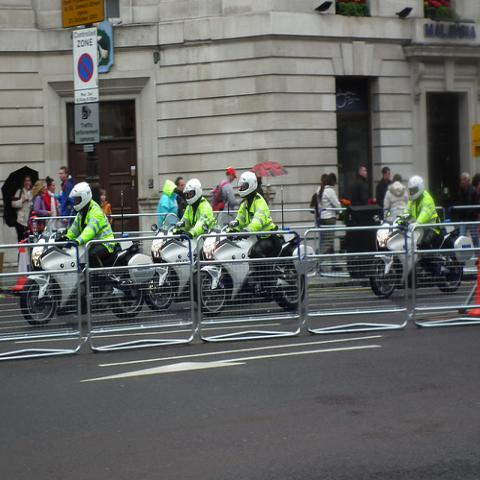motorcycle: (20, 227, 154, 328), (200, 220, 306, 315), (370, 214, 479, 302), (148, 222, 198, 312)
